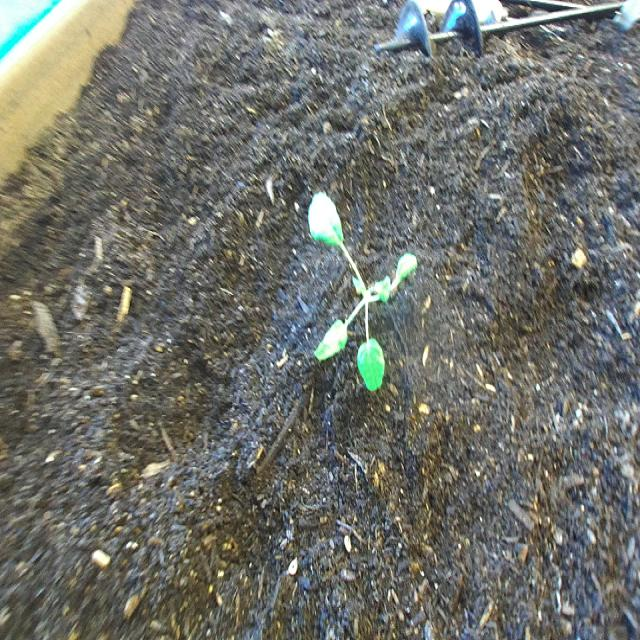Healthy: (294, 174, 434, 416)
